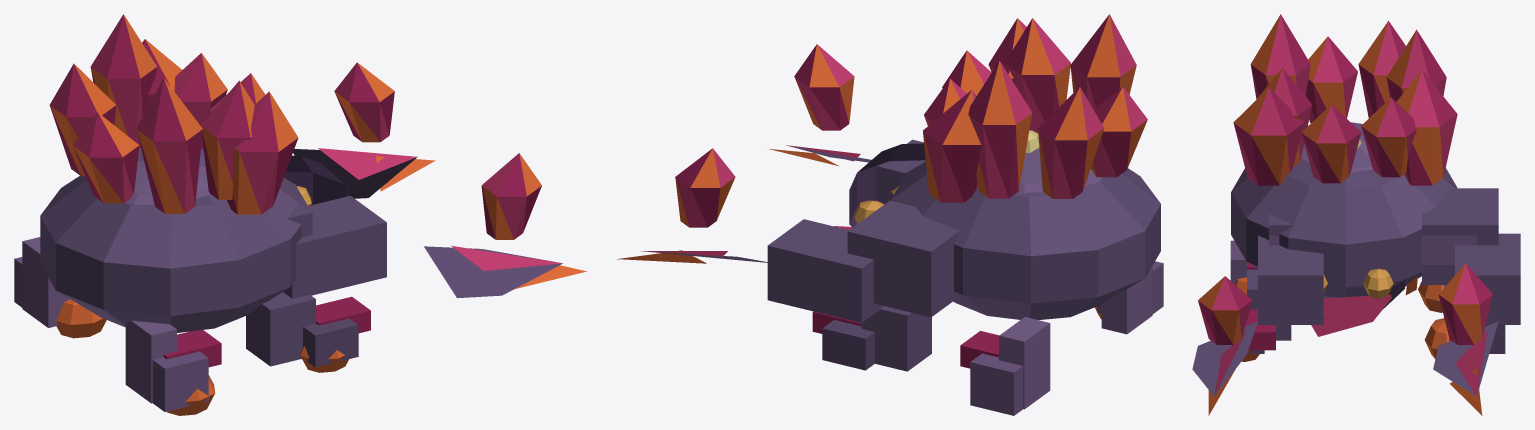
Rendered from enemy-brute.glb.
The picture shows the model from 3 angles, left to right: view 1: azimuth 30°, elevation 25°; view 2: azimuth 150°, elevation 25°; view 3: azimuth 270°, elevation 25°; orthographic projection. The views are drawn at different scales.
Visible parts, largest first — view 1: Brute heavy armor mass with oversized claws; view 2: Brute heavy armor mass with oversized claws; view 3: Brute heavy armor mass with oversized claws.
Part boxes in pixels (left/top/right/bottom): Brute heavy armor mass with oversized claws: left=14, top=14, right=586, bottom=415; Brute heavy armor mass with oversized claws: left=617, top=14, right=1163, bottom=415; Brute heavy armor mass with oversized claws: left=1192, top=14, right=1520, bottom=415.
Bounding box in the file's own units: 0.8683 × 0.5932 × 0.6.
